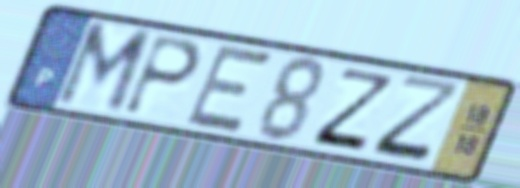8: (253, 54, 329, 146)
E: (180, 42, 278, 136)
M: (49, 19, 158, 119)
P: (119, 32, 206, 119)
Z: (366, 72, 467, 169), (306, 65, 398, 155)
